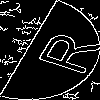R: (25, 25, 100, 77)
